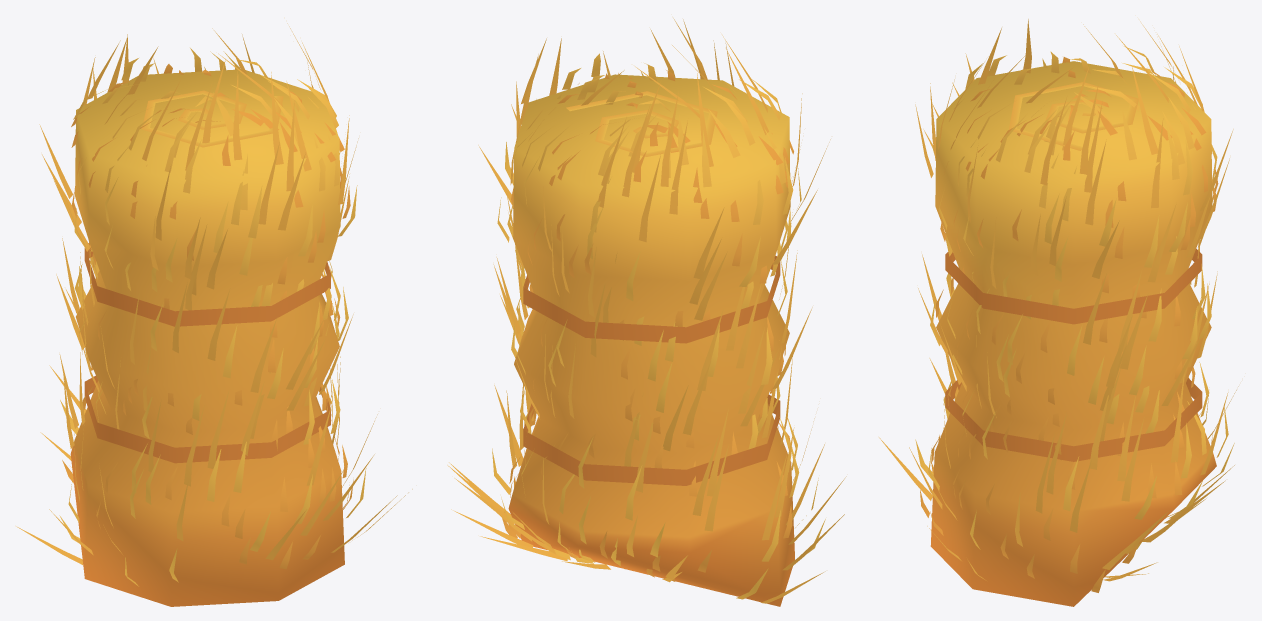
File: haystackthin.glb
3 views of the same model, side by side, from view 1: azimuth 30°, elevation 25°; view 2: azimuth 150°, elevation 25°; view 3: azimuth 270°, elevation 25° (orthographic). The views are drawn at different scales.
Parts seen in each view (by area): view 1: haystackthin; view 2: haystackthin; view 3: haystackthin.
Boxes of the visible parts, x1=… form: haystackthin: x1=16, y1=23, x2=412, y2=606; haystackthin: x1=447, y1=18, x2=846, y2=606; haystackthin: x1=879, y1=19, x2=1238, y2=606.
Bounding box in the file's own units: 1.55 × 2.19 × 1.44.
Materials: 1 (1 with a texture image).
